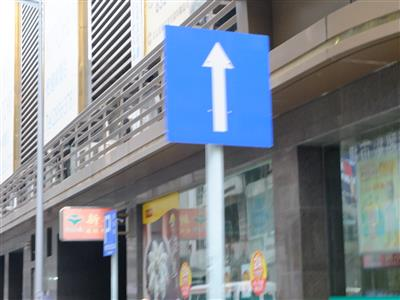oneway: (155, 18, 283, 160)
